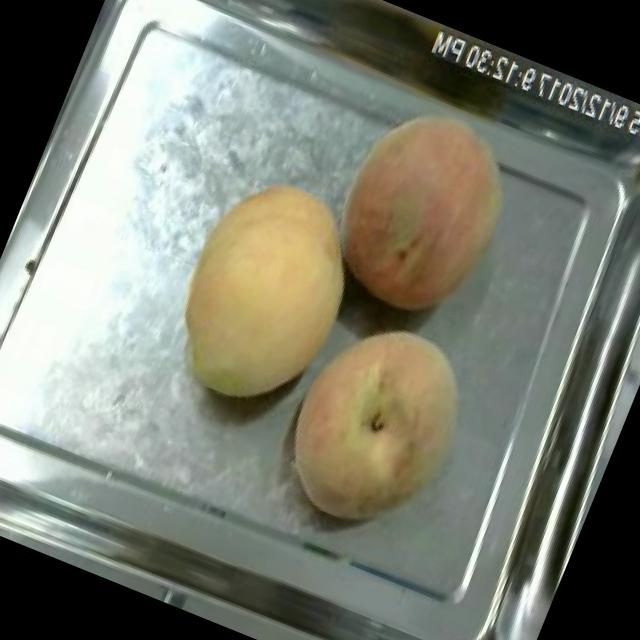Fruit: (143, 156, 383, 430), (256, 294, 496, 554), (300, 82, 539, 342)
